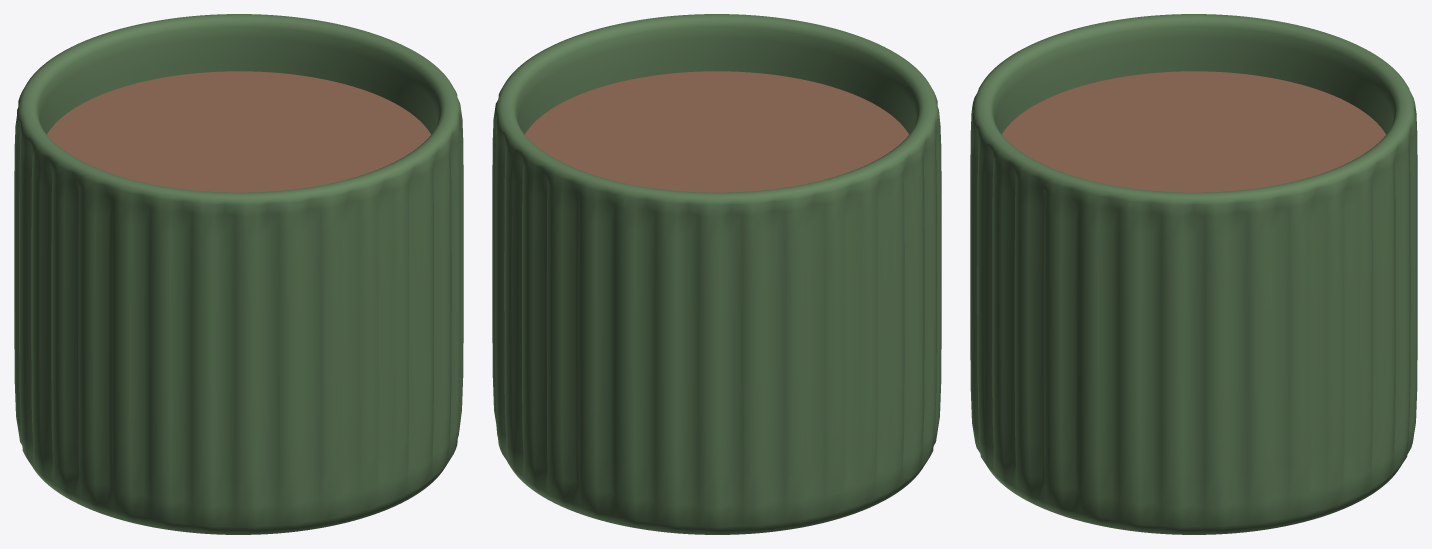
The model's file is fluted_green.glb.
3 renders of one model, left to right at view 1: azimuth 30°, elevation 25°; view 2: azimuth 150°, elevation 25°; view 3: azimuth 270°, elevation 25°, orthographic.
Visible parts, largest first — view 1: Circle.011, Circle.010; view 2: Circle.011, Circle.010; view 3: Circle.011, Circle.010.
Part boxes in pixels (x1,y1,x2,y2): Circle.011: (14, 14, 463, 534); Circle.010: (47, 71, 430, 192); Circle.011: (492, 14, 941, 534); Circle.010: (525, 71, 908, 192); Circle.011: (970, 14, 1417, 534); Circle.010: (1002, 71, 1385, 192).
Bounding box in the file's own units: 11.66 × 9.97 × 11.66.
